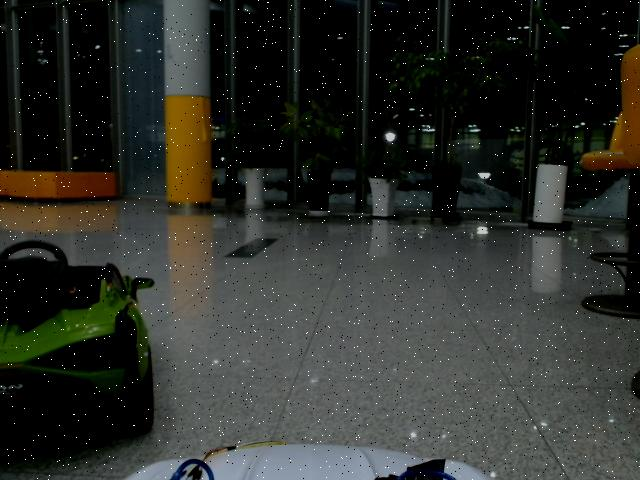car: (1, 241, 153, 454)
